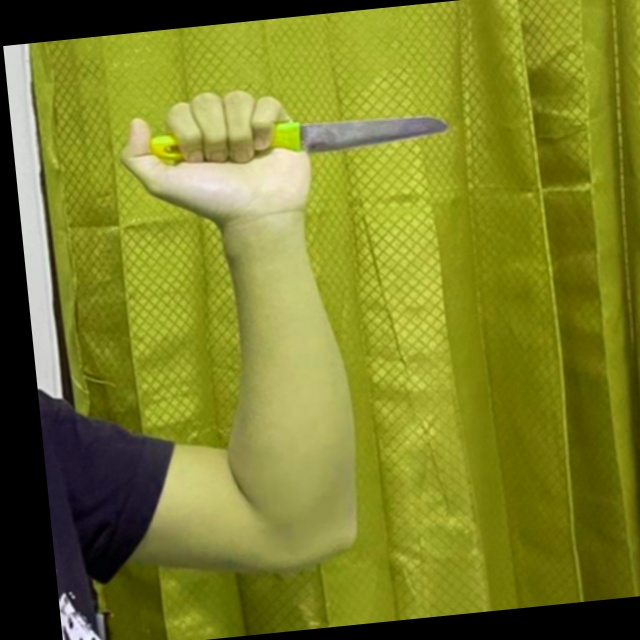Sharp-Object: (148, 103, 451, 173)
